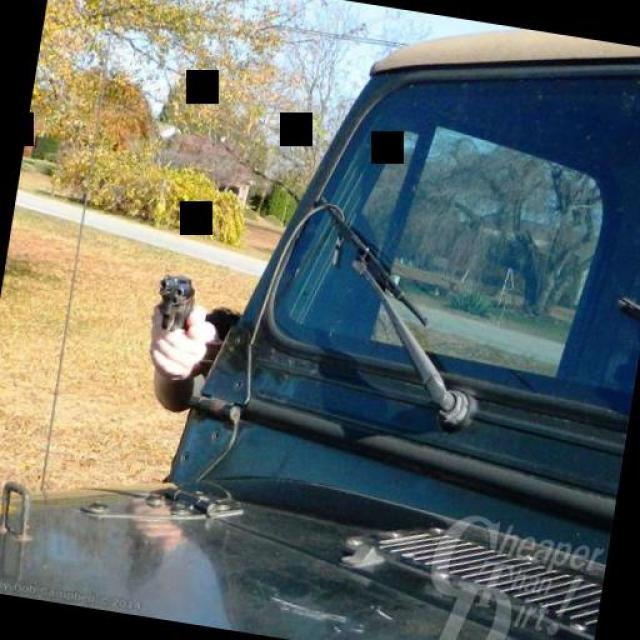gun: (142, 269, 204, 370)
